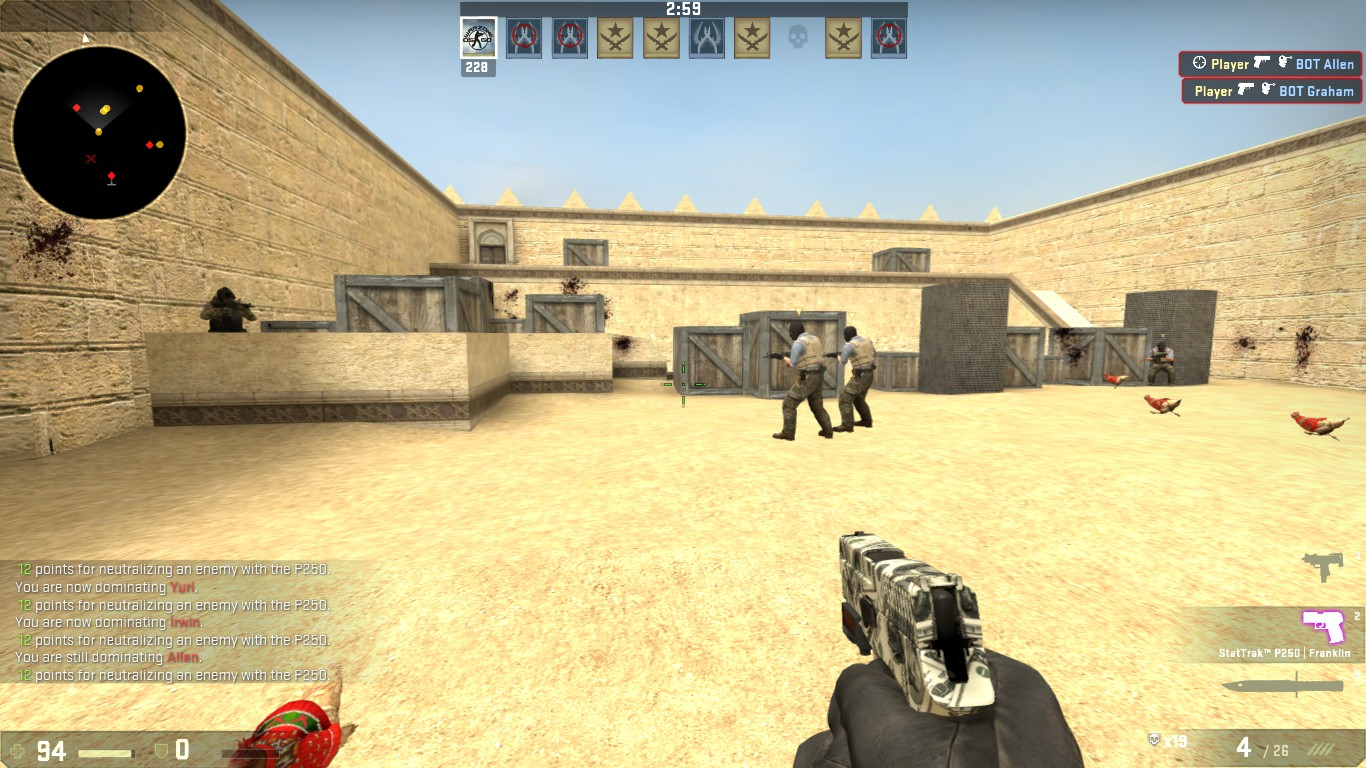c: (200, 284, 247, 333)
ch: (211, 283, 239, 306)
t: (780, 317, 824, 442), (836, 324, 876, 435), (1143, 338, 1179, 391)
th: (787, 320, 808, 342), (843, 326, 859, 343), (1155, 339, 1171, 354)
